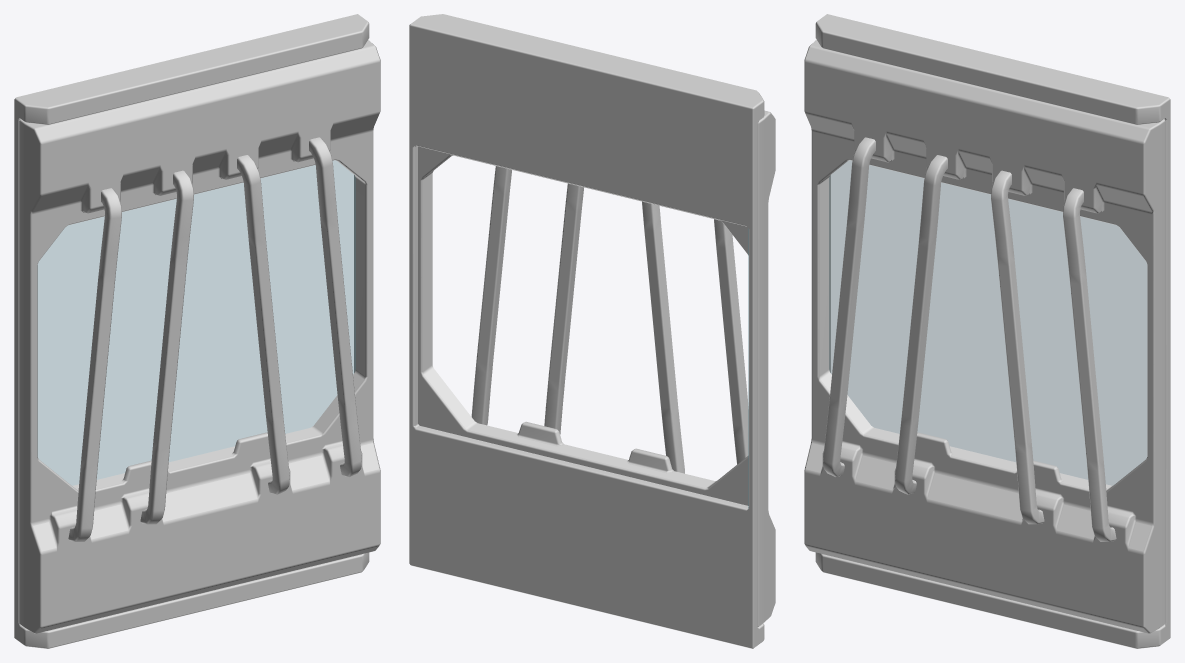
File: WindowBarsA2x3.glb
3 views of the same model, side by side, from view 1: azimuth 30°, elevation 25°; view 2: azimuth 150°, elevation 25°; view 3: azimuth 330°, elevation 25° (orthographic).
Visible parts, largest first — view 1: WindowBarsA2x3; view 2: WindowBarsA2x3; view 3: WindowBarsA2x3.
Part boxes in pixels (x1,y1,x2,y2): WindowBarsA2x3: [14, 14, 380, 648]; WindowBarsA2x3: [409, 14, 775, 648]; WindowBarsA2x3: [804, 14, 1170, 648].
Size of what is drawn, in the model's own units: 2 by 3 by 0.3687.
